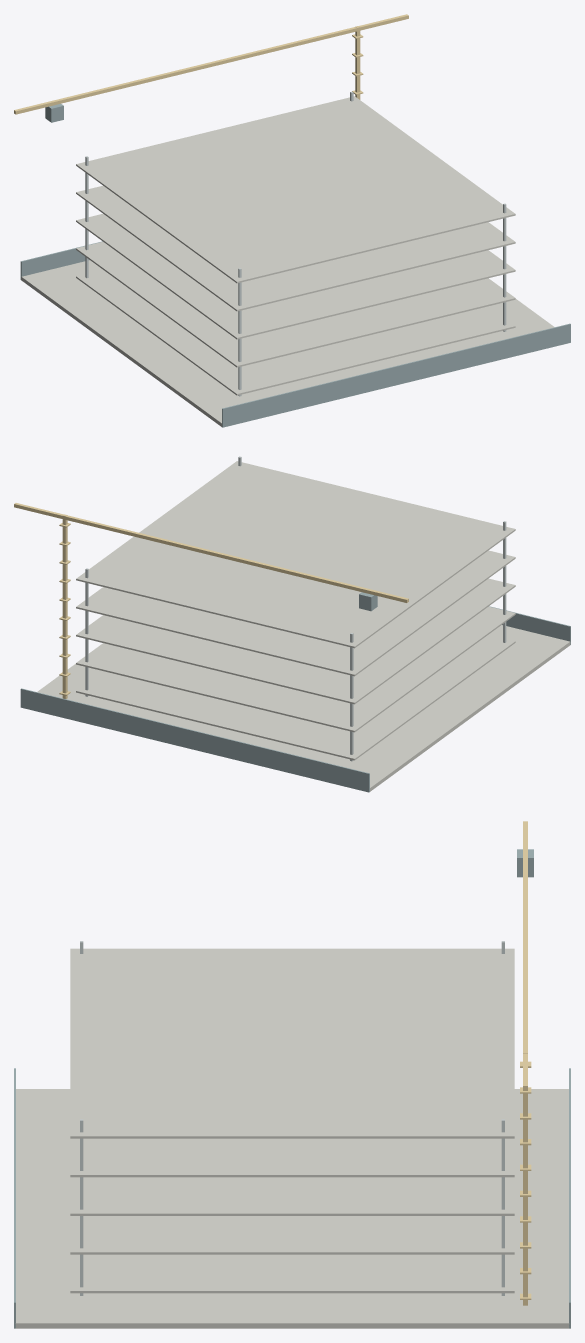
File: remaster_site_4_3.glb
The picture shows the model from 3 angles, top to bottom: view 1: azimuth 30°, elevation 25°; view 2: azimuth 150°, elevation 25°; view 3: azimuth 270°, elevation 25°; orthographic projection. The views are drawn at different scales.
Parts seen in each view (by area): view 1: remaster_site_4_3 stone, remaster_site_4_3 roof, remaster_site_4_3 gold, remaster_site_4_3 metal; view 2: remaster_site_4_3 stone, remaster_site_4_3 roof, remaster_site_4_3 gold, remaster_site_4_3 metal; view 3: remaster_site_4_3 stone, remaster_site_4_3 gold, remaster_site_4_3 roof, remaster_site_4_3 metal.
Boxes of the visible parts, x1=… form: remaster_site_4_3 stone: x1=21, y1=96, x2=554, y2=426; remaster_site_4_3 roof: x1=20, y1=103, x2=570, y2=427; remaster_site_4_3 gold: x1=14, y1=14, x2=408, y2=114; remaster_site_4_3 metal: x1=85, y1=91, x2=506, y2=396; remaster_site_4_3 stone: x1=37, y1=461, x2=570, y2=791; remaster_site_4_3 roof: x1=20, y1=592, x2=570, y2=792; remaster_site_4_3 gold: x1=14, y1=503, x2=408, y2=698; remaster_site_4_3 metal: x1=85, y1=456, x2=506, y2=761; remaster_site_4_3 stone: x1=15, y1=948, x2=569, y2=1328; remaster_site_4_3 gold: x1=520, y1=821, x2=531, y2=1305; remaster_site_4_3 roof: x1=14, y1=849, x2=570, y2=1328; remaster_site_4_3 metal: x1=80, y1=941, x2=504, y2=1295.
Bounding box in the file's own units: 44 × 20 × 39.14.
